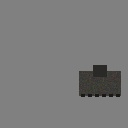armoured_vehicle: (79, 71, 121, 96)
